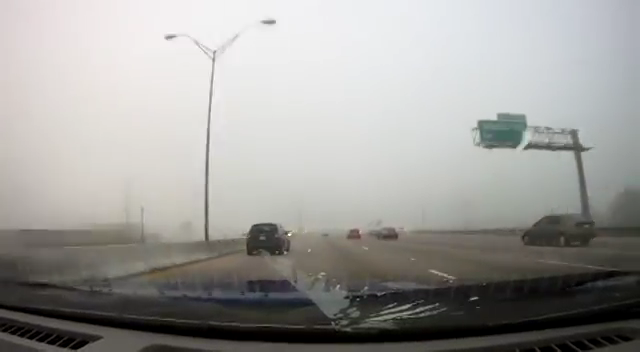car: (522, 213, 598, 246), (246, 222, 291, 256), (376, 226, 398, 240), (347, 228, 362, 240)
